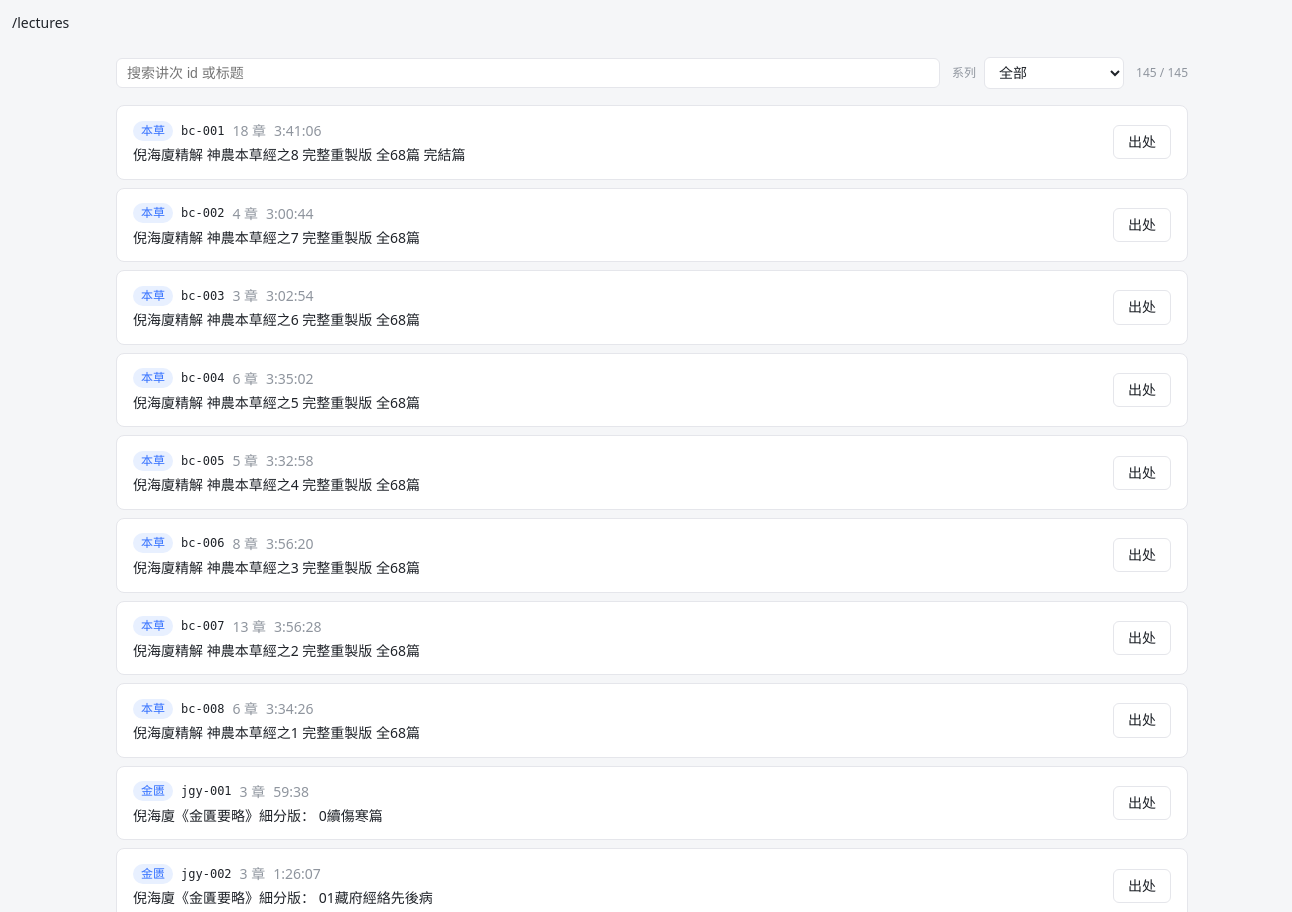
Test: the legacy catalog filter/list shares the display reader but keeps original source titles and YouTube URLs
Select "黄帝内经（nj）" in the dropdown: (1054, 73) left=984, top=57, right=1124, bottom=89
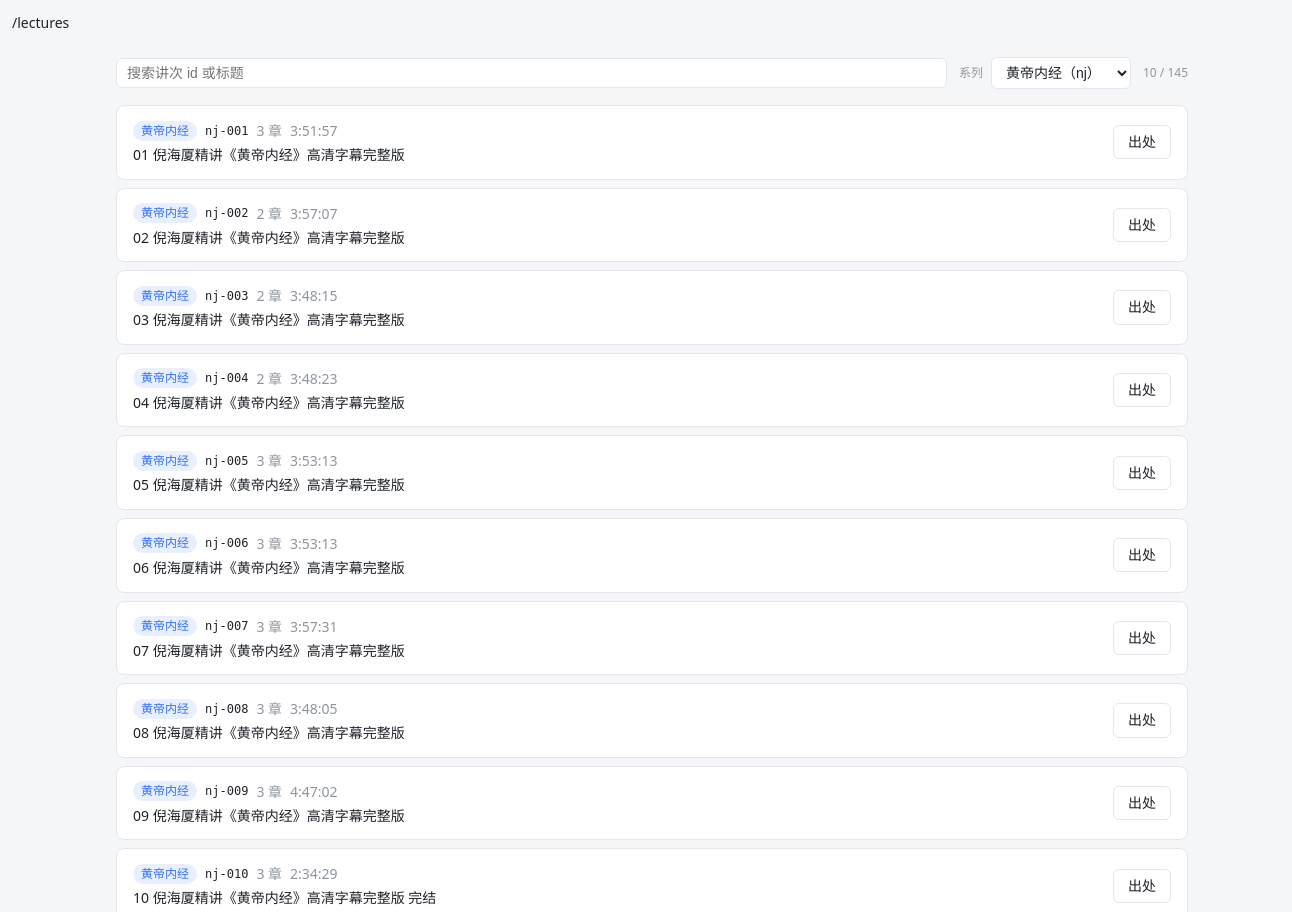
Expected: the text "黄帝内经" next to "nj-001" is shown, left=141, top=122, right=189, bottom=138
Expected: the number of list items with class "lecture-row" is 10
